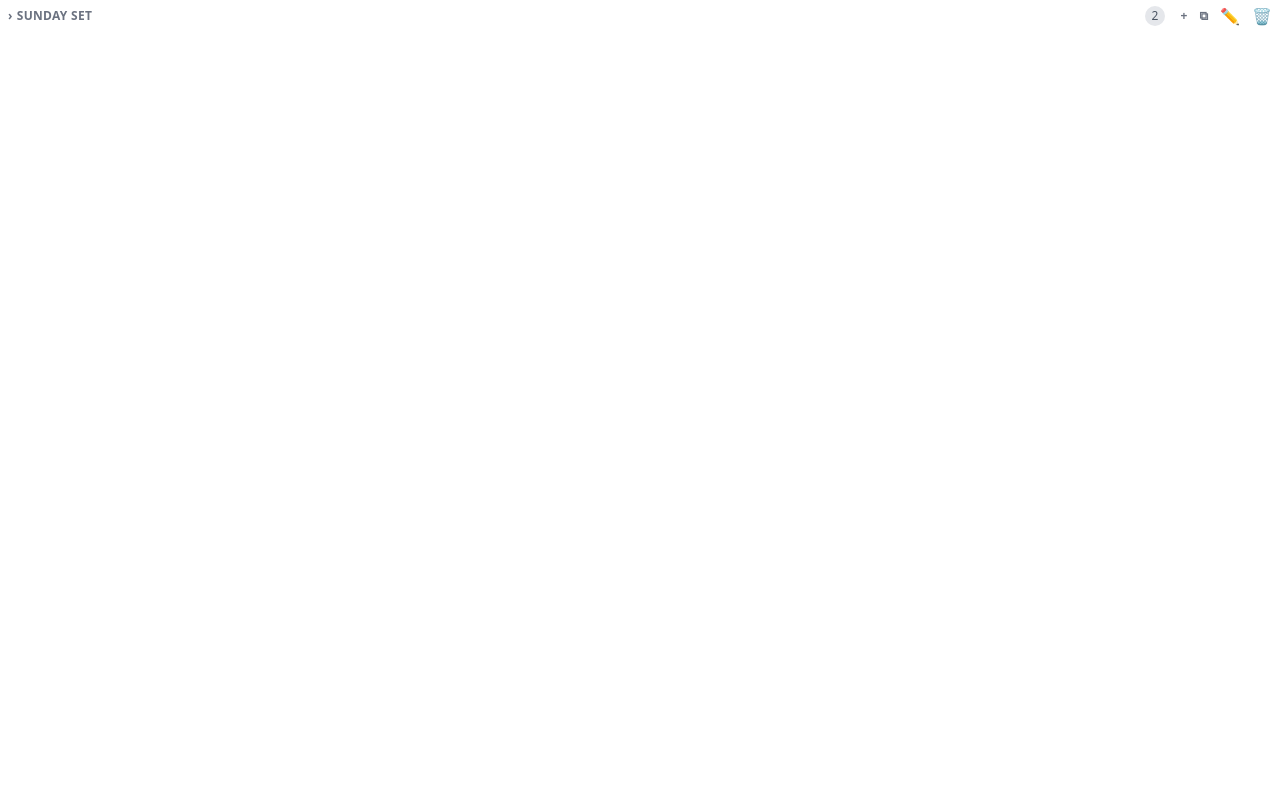
CollectionGroup delete — also delete songs option › only counts songs not in another collection, and says the others are kept
Click the button named "delete collection sunday set".
click(1262, 16)  # box x1=1248 y1=0 x2=1276 y2=32
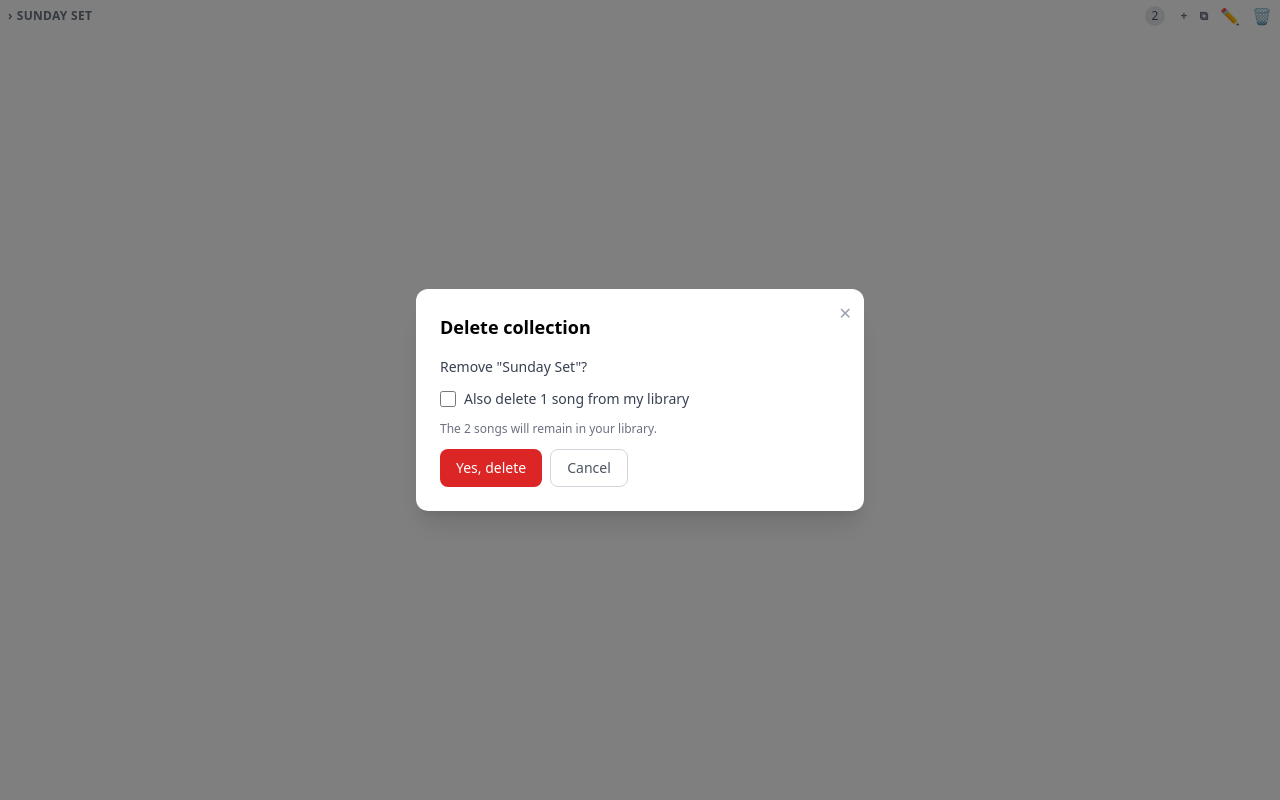
Click the checkbox labelled "Also delete 1 song from my library".
click(448, 399)  # box x1=440 y1=391 x2=456 y2=407
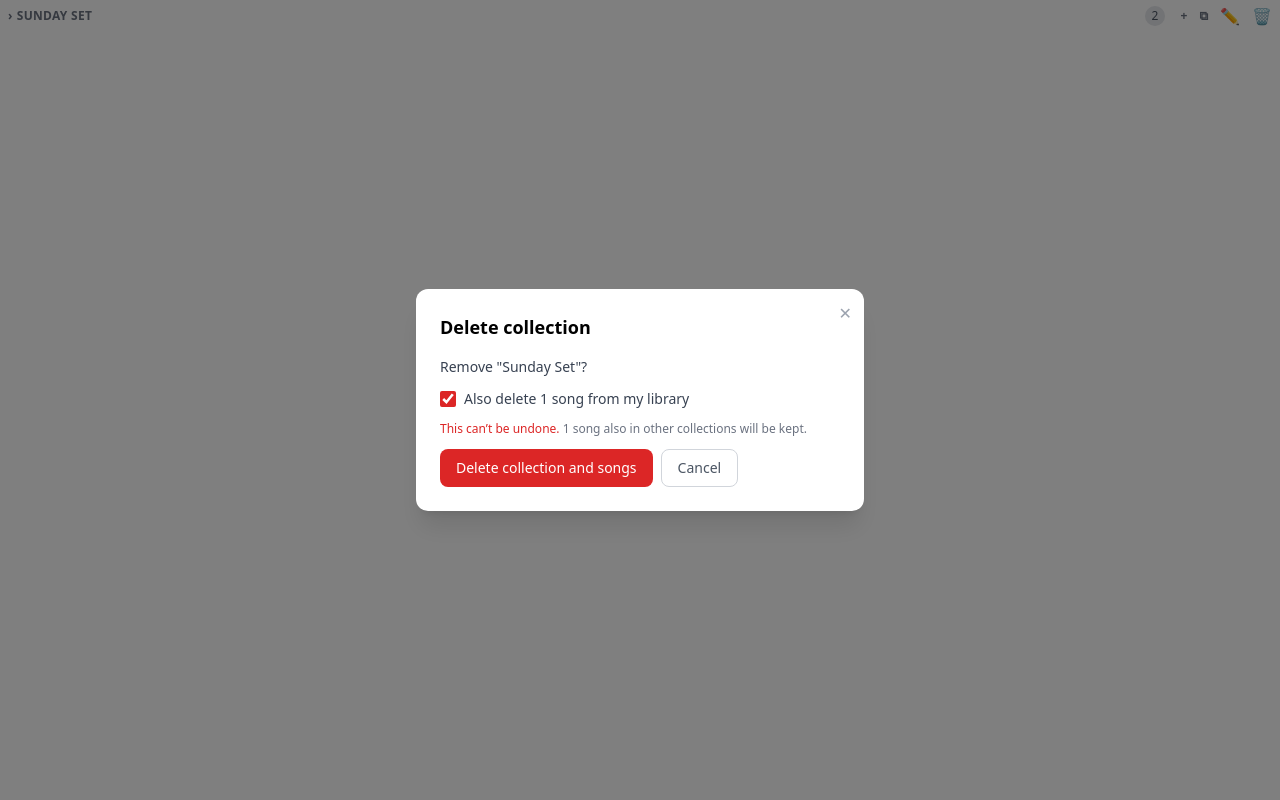
Expected: the dialog shows "1 song also in other collections will be kept", x1=560 y1=420 x2=807 y2=437
